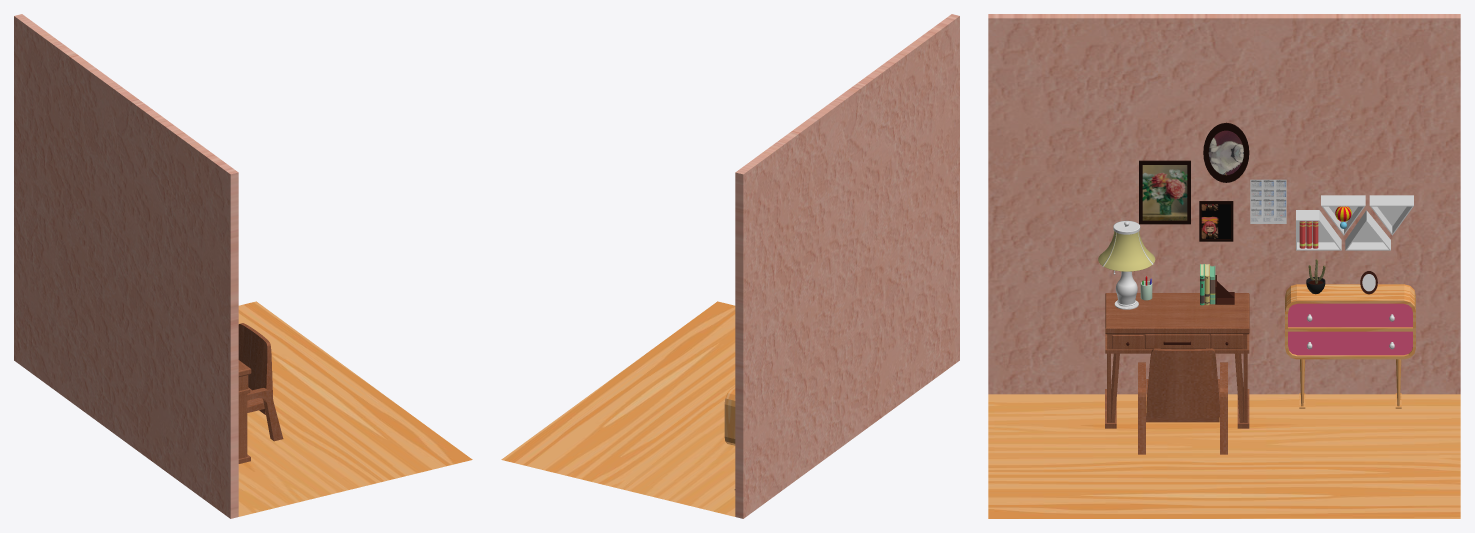
Rendered from environment_anya.fbx.
3 views of the same model, side by side, from view 1: azimuth 30°, elevation 25°; view 2: azimuth 150°, elevation 25°; view 3: azimuth 270°, elevation 25° (orthographic). The views are drawn at different scales.
Visible parts, largest first — view 1: Plane, Plane.001, Cube.019, Cube.002; view 2: Plane, Plane.001, Cube.008; view 3: Plane, Plane.001, Cube.002, Cube.008, Cube.019, Cube.004, Cylinder.006, Cylinder.016, kalender-1968-hoch, Cube.007, Cube.010, Cube.012 (+3 smaller).
Boxes of the visible parts, x1,y1,x2,y2 form: Plane: (14,14,238,518); Plane.001: (238,301,472,516); Cube.019: (238,323,283,441); Cube.002: (238,360,251,463); Plane: (735,14,959,518); Plane.001: (501,301,735,516); Cube.008: (724,386,735,445); Plane: (988,14,1460,394); Plane.001: (988,394,1460,518); Cube.002: (1105,293,1249,428); Cube.008: (1285,284,1415,359); Cube.019: (1138,348,1227,454); Cube.004: (1139,160,1190,224); Cylinder.006: (1098,220,1155,309); Cylinder.016: (1203,122,1249,182); kalender-1968-hoch: (1250,179,1286,223); Cube.007: (1199,201,1233,241); Cube.010: (1345,210,1390,250); Cube.012: (1369,195,1413,235).
Size of the model in its own units: 1033 by 1405 by 1599.
